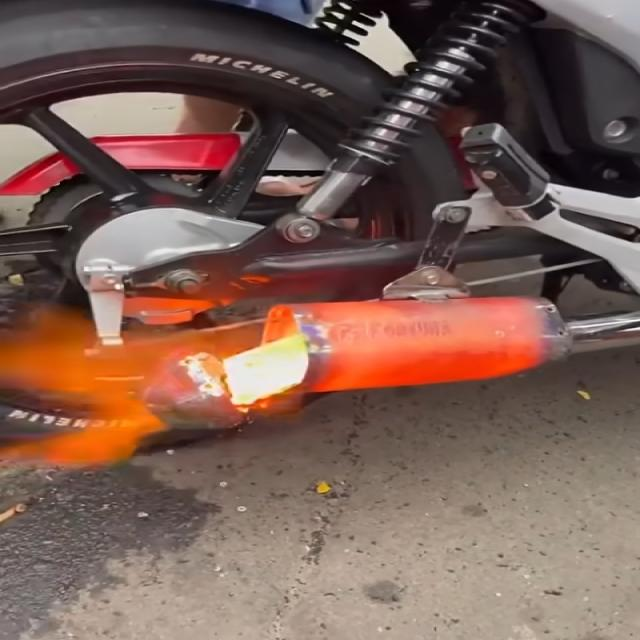fire: (221, 331, 307, 413)
